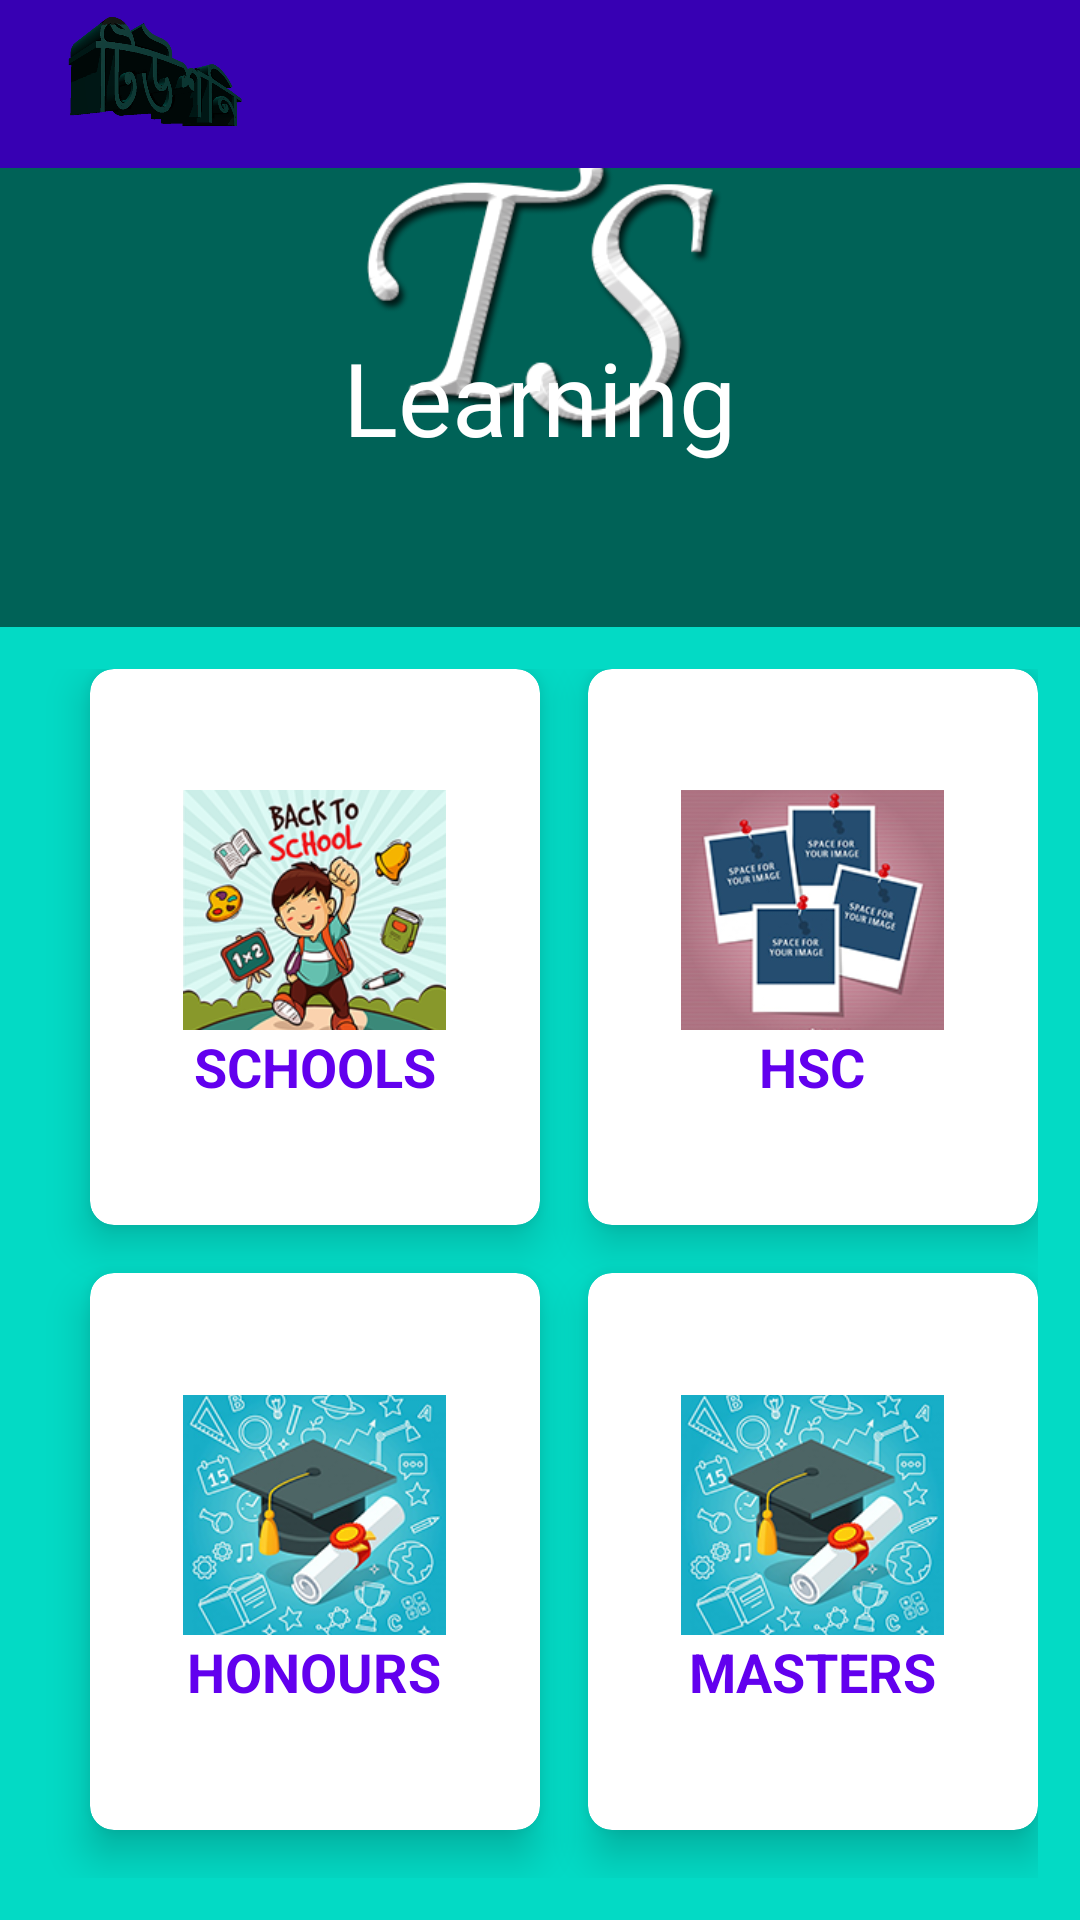

Screen size 1080w x 1920h. Icon name, then its center in pixels as (x,y):
collage: (812,910)
university: (314,1515), (812,1515)
